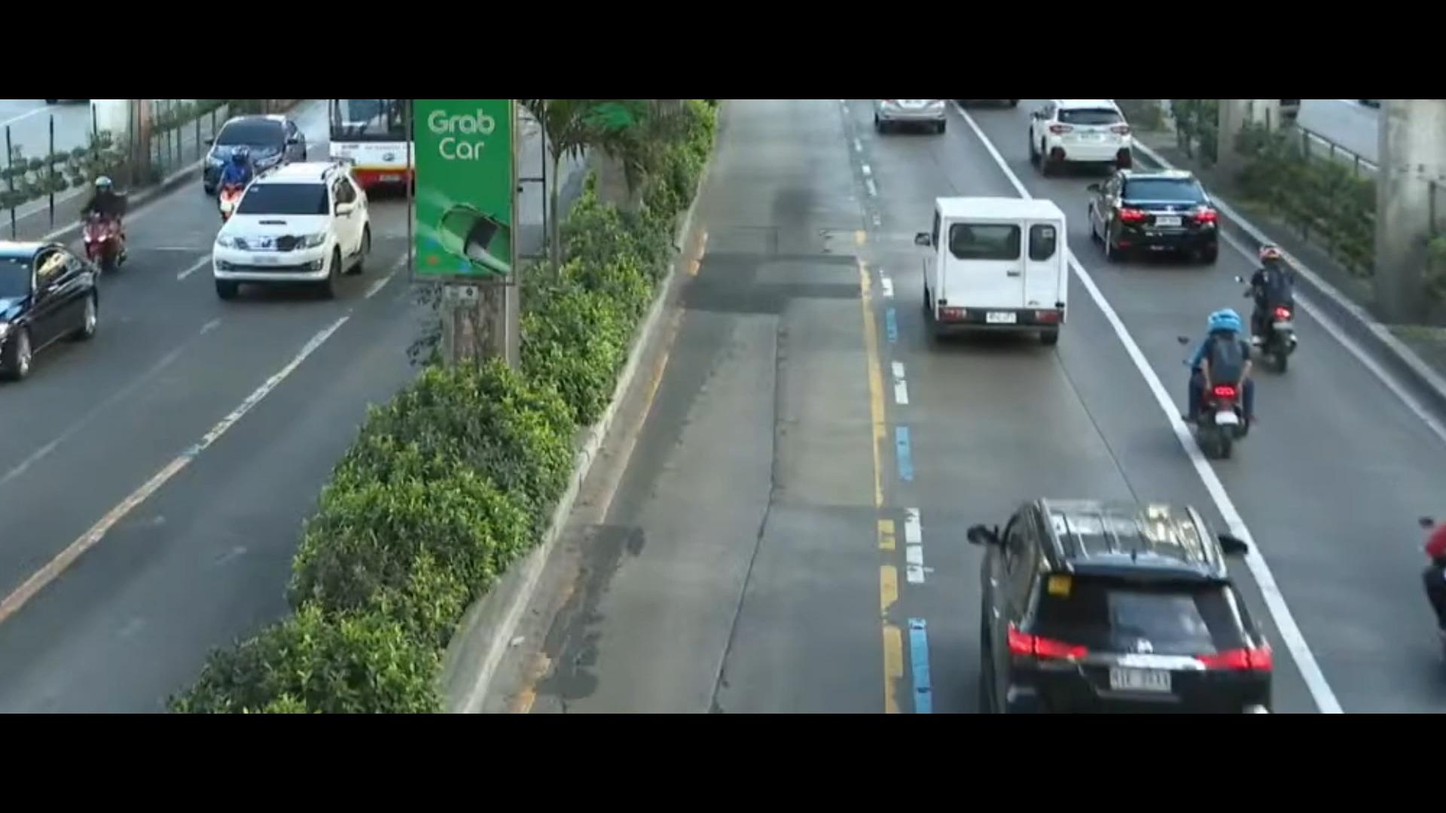Bus: (324, 98, 426, 196)
Motorcycle: (1177, 303, 1273, 452), (1236, 239, 1341, 349), (191, 147, 271, 230), (73, 172, 132, 273)
Multicab: (878, 185, 1111, 381)
SUV: (957, 471, 1283, 712), (204, 149, 381, 325)
Sedan: (0, 241, 117, 380), (1099, 160, 1239, 259), (1027, 102, 1141, 190), (194, 110, 310, 176)
